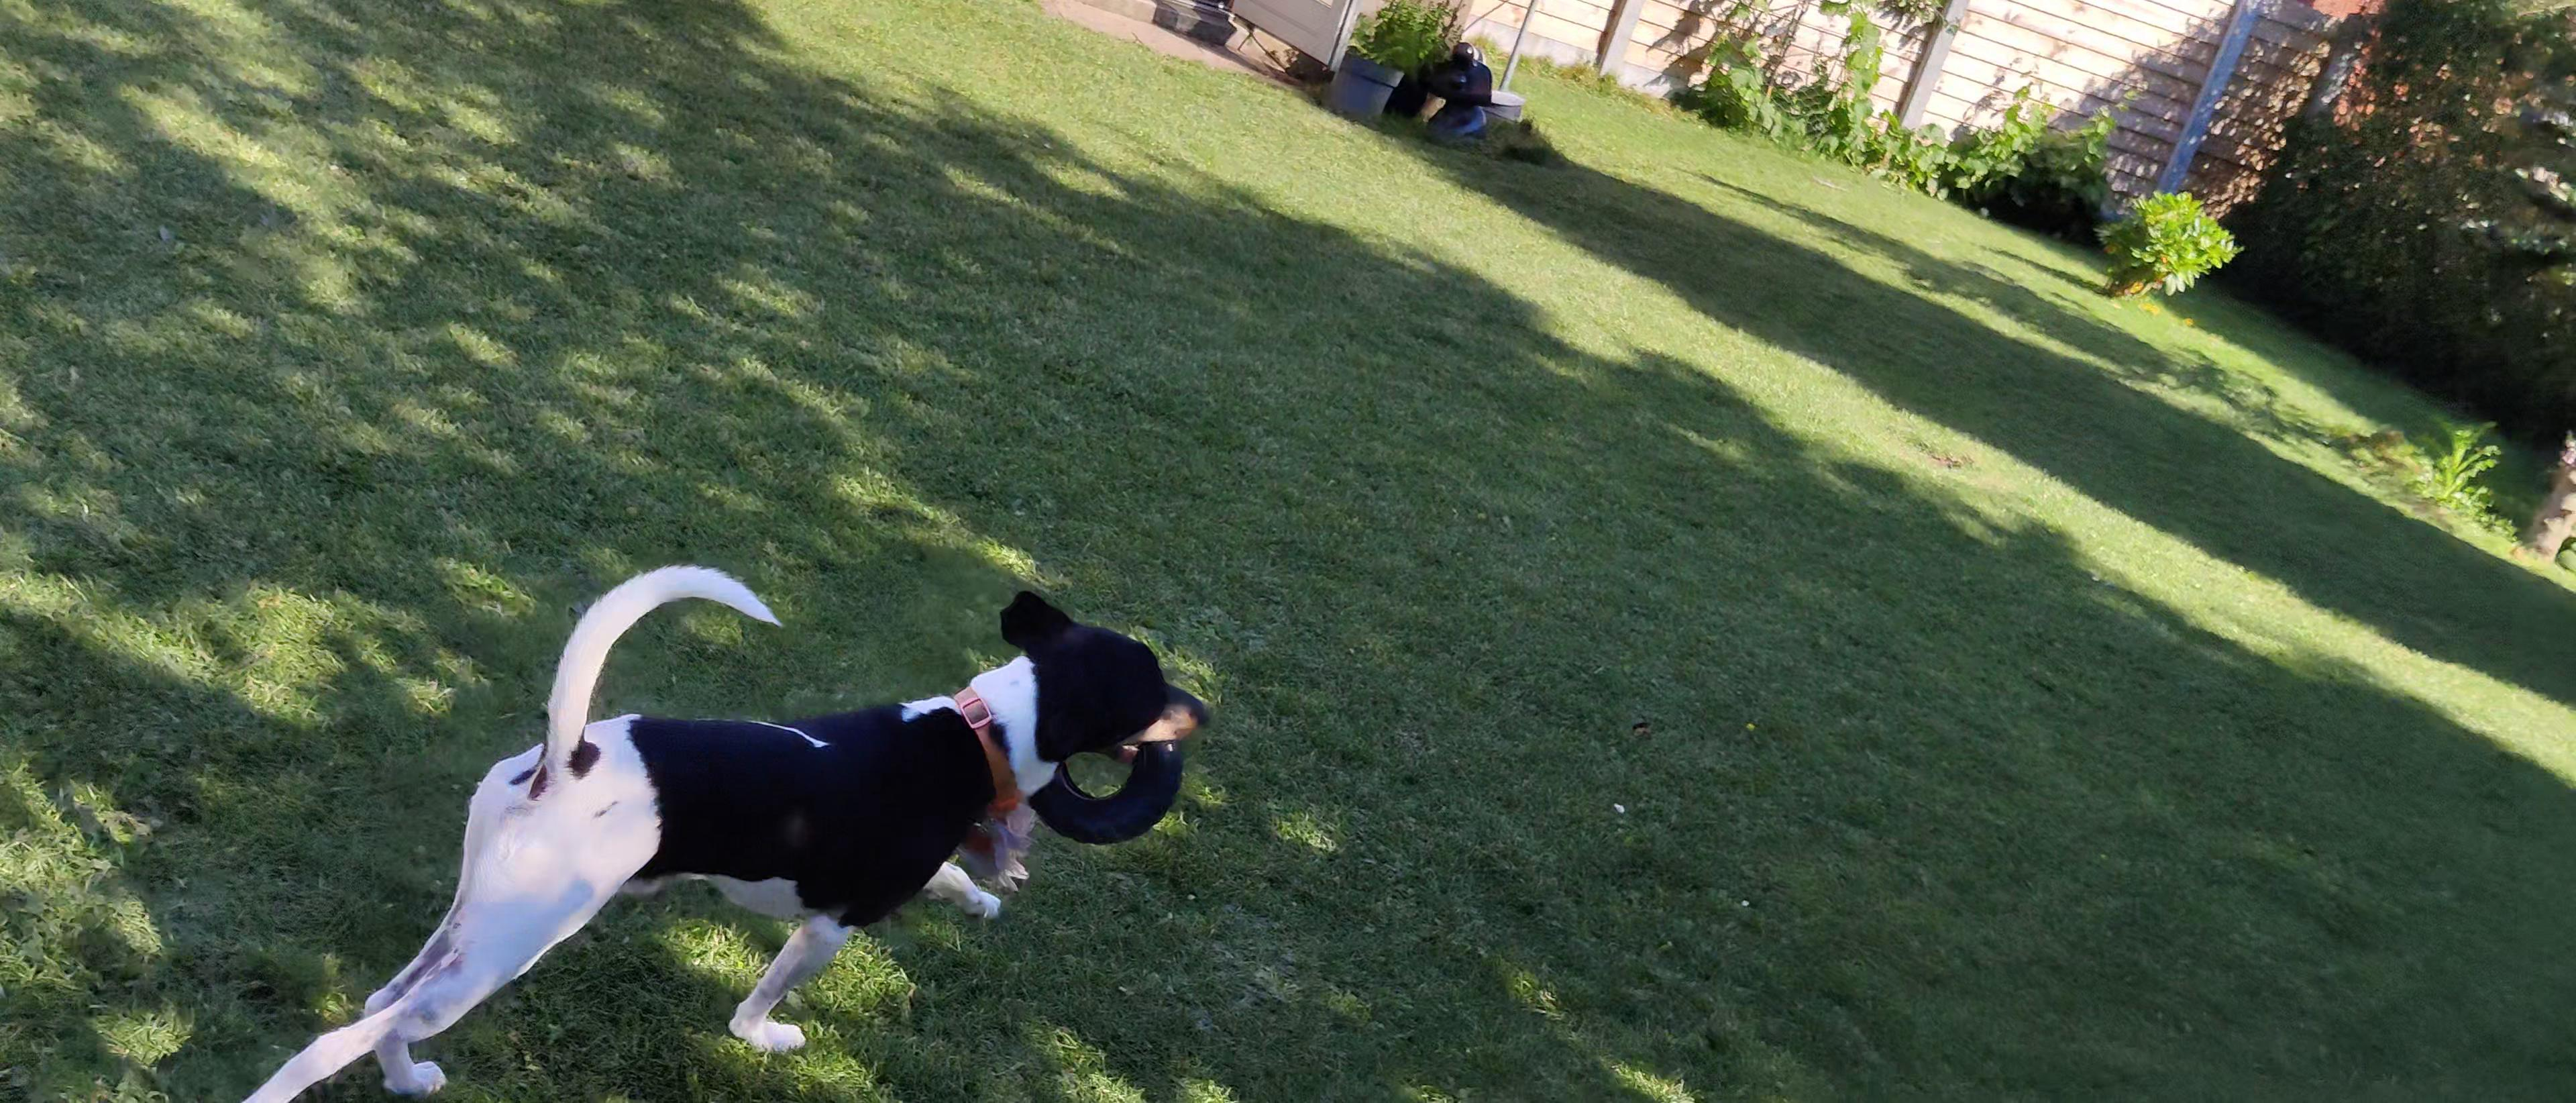Dog: (230, 493, 1212, 1103)
